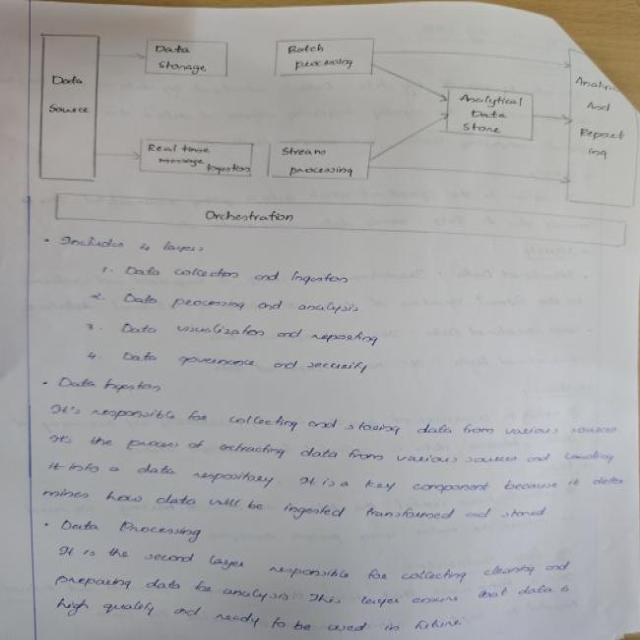Figure Detection - v3 Dataset Version2: (25, 12, 640, 252)
